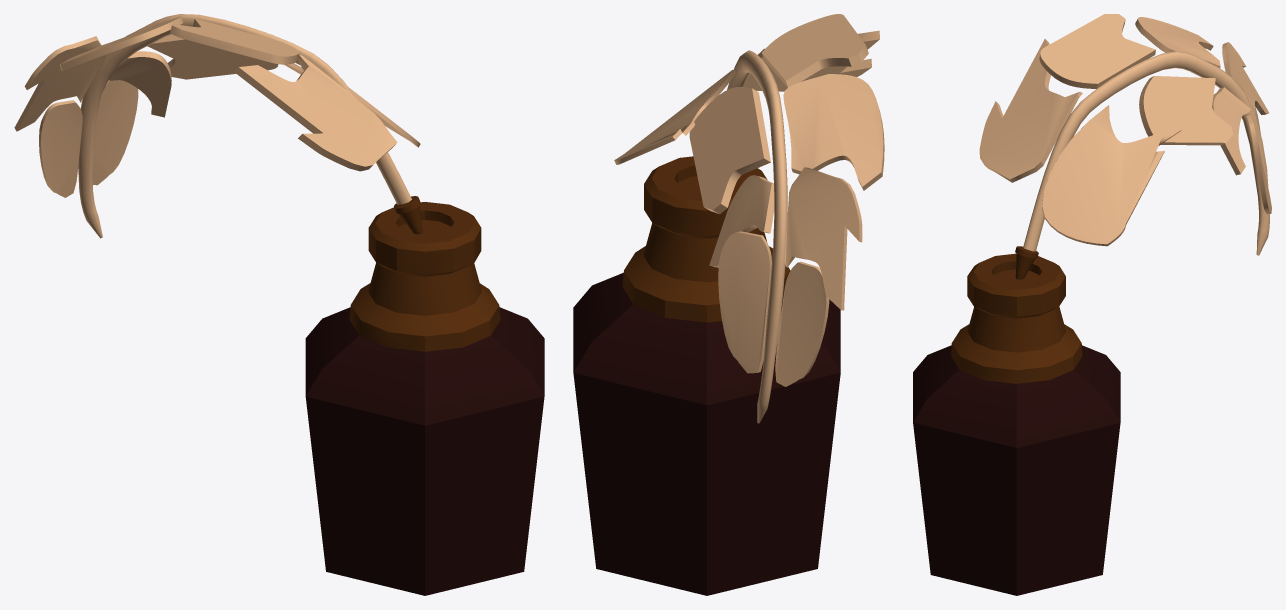
File: inkwell et plume.fbx
3 renders of one model, left to right at view 1: azimuth 30°, elevation 25°; view 2: azimuth 150°, elevation 25°; view 3: azimuth 270°, elevation 25°, orthographic. The views are drawn at different scales.
Visible parts, largest first — view 1: Cône001; view 2: Cône001; view 3: Cône001.
Part boxes in pixels (x1,y1,x2,y2): Cône001: [14, 14, 544, 595]; Cône001: [573, 14, 884, 595]; Cône001: [913, 14, 1271, 595].
Bounding box in the file's own units: 24.65 × 32.03 × 22.73.
